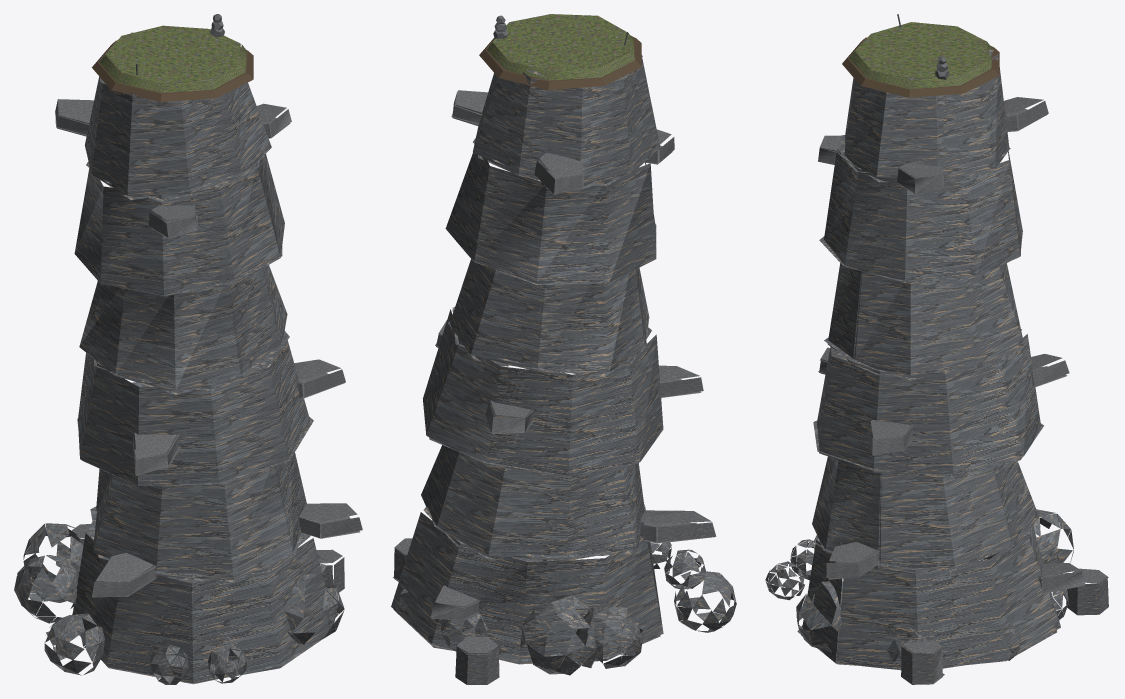
File: cragColumn.glb
3 renders of one model, left to right at view 1: azimuth 30°, elevation 25°; view 2: azimuth 150°, elevation 25°; view 3: azimuth 270°, elevation 25°, orthographic. The views are drawn at different scales.
Visible parts, largest first — view 1: LOD0.terrain.cliff, LOD0.terrain.ground, LOD0._5a4a3a; view 2: LOD0.terrain.cliff, LOD0.terrain.ground, LOD0._5a4a3a; view 3: LOD0.terrain.cliff, LOD0.terrain.ground, LOD0._5a4a3a.
Part boxes in pixels (left/top/right/bottom): LOD0.terrain.cliff: left=14, top=14, right=362, bottom=684; LOD0.terrain.ground: left=99, top=25, right=246, bottom=92; LOD0._5a4a3a: left=92, top=40, right=253, bottom=102; LOD0.terrain.cliff: left=391, top=15, right=736, bottom=684; LOD0.terrain.ground: left=486, top=14, right=634, bottom=80; LOD0._5a4a3a: left=479, top=36, right=641, bottom=89; LOD0.terrain.cliff: left=765, top=48, right=1108, bottom=684; LOD0.terrain.ground: left=849, top=22, right=991, bottom=89; LOD0._5a4a3a: left=842, top=37, right=999, bottom=97.
Size of what is drawn, in the model's own units: 52 by 95.94 by 51.1.
4 materials, 3 textured.
